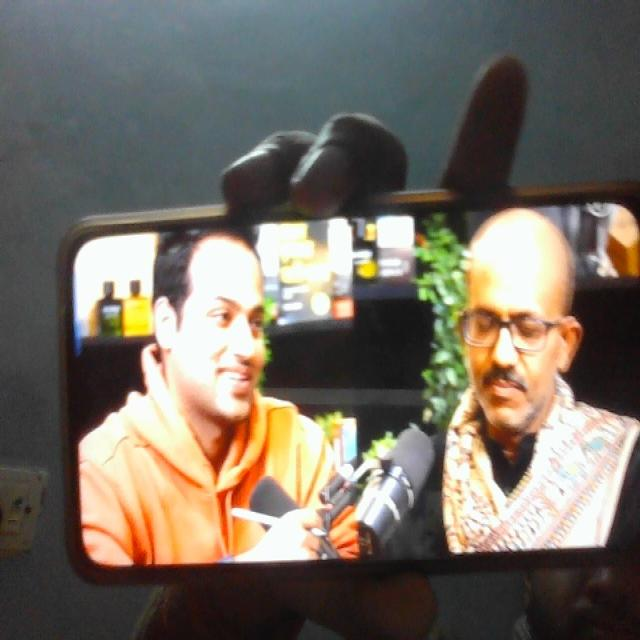fake: (148, 185, 281, 436)
